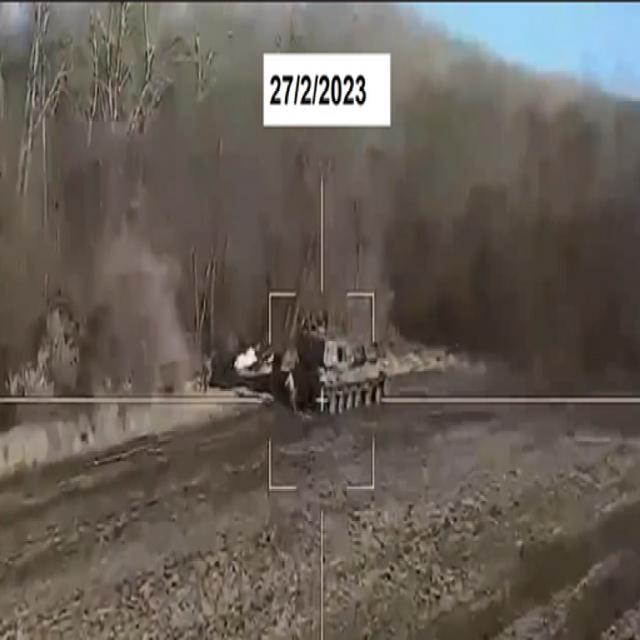ART: (299, 327, 390, 411)
